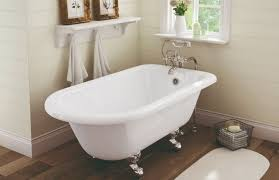bathub: (43, 60, 221, 180)
